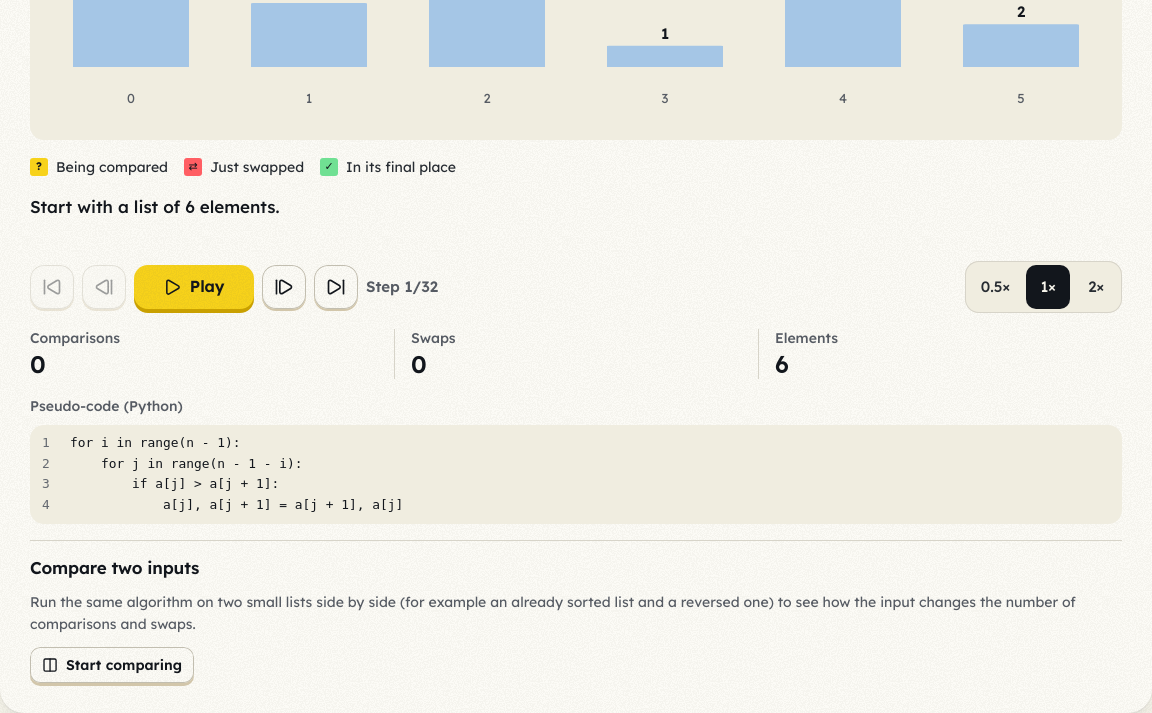
Test: compare two inputs (spec §10.3) › shares the comparison with the AI tutor and closes back to the start button
The width and height of the screenshot is (1152, 713).
(page scrolled)
Click the button "Start comparing".
click(112, 665)  # box [30,647,194,683]
(page scrolled)
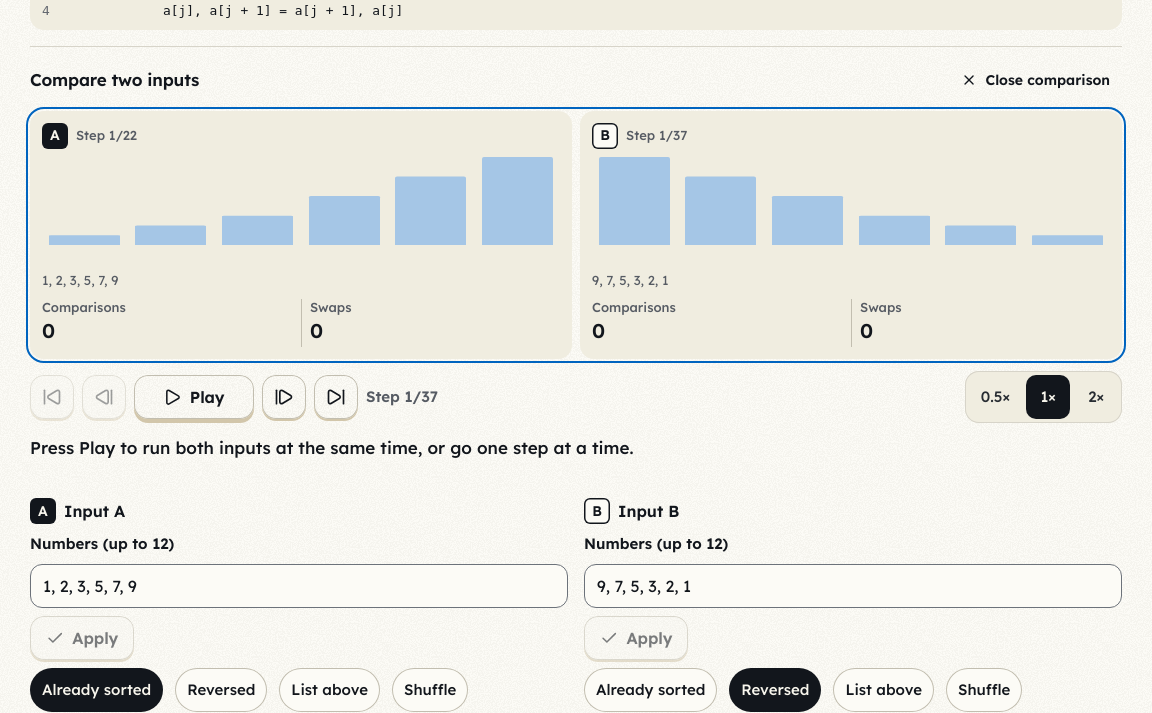
Click the button named "Last step".
click(336, 397)  # box [314,375,358,419]
Wait 400 ms
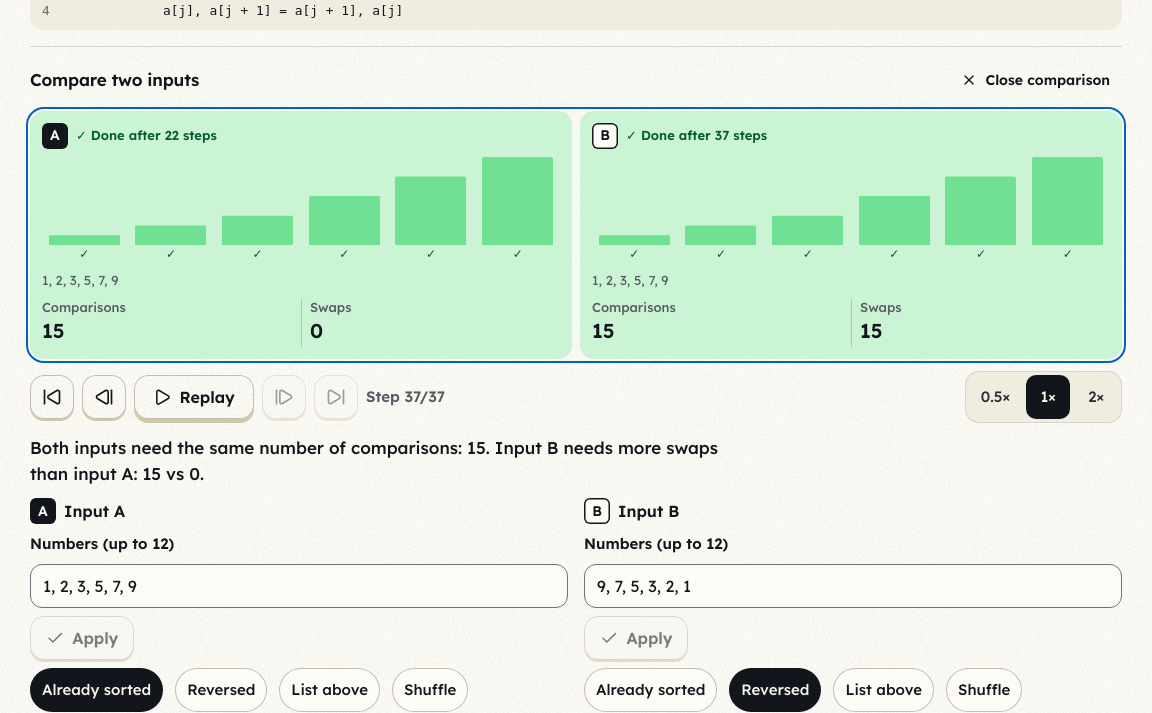
Click the button "Close comparison".
click(1036, 80)  # box [949,62,1122,98]
Wait 400 ms
(page scrolled)
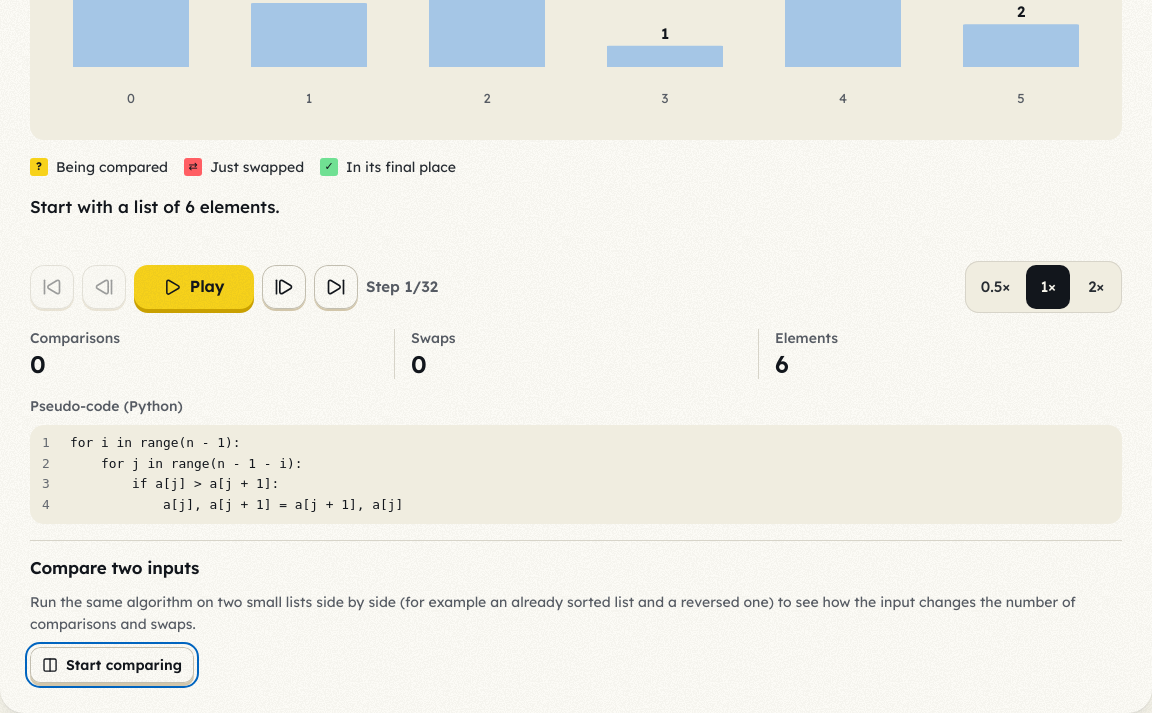
Expected: the button "Start comparing" is shown, [30,647,194,683]
